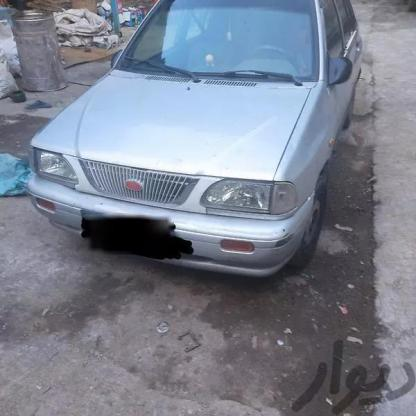Car: (0, 0, 370, 283)
